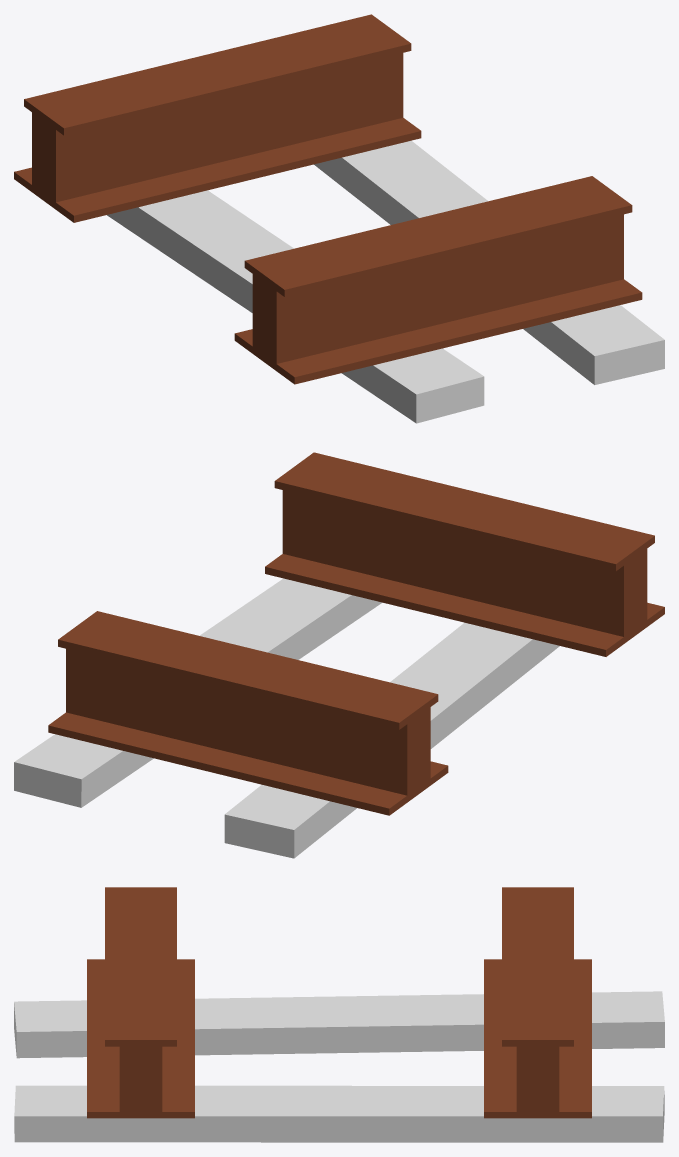
The model's file is RailwayA.fbx.
The picture shows the model from 3 angles, top to bottom: view 1: azimuth 30°, elevation 25°; view 2: azimuth 150°, elevation 25°; view 3: azimuth 270°, elevation 25°; orthographic projection. The views are drawn at different scales.
Parts seen in each view (by area): view 1: Rail; view 2: Rail; view 3: Rail.
Part boxes in pixels (x1=…): Rail: x1=14, y1=14, x2=664, y2=423; Rail: x1=14, y1=452, x2=664, y2=858; Rail: x1=14, y1=887, x2=664, y2=1142.
Bounding box in the file's own units: 1000 × 337 × 1804.
